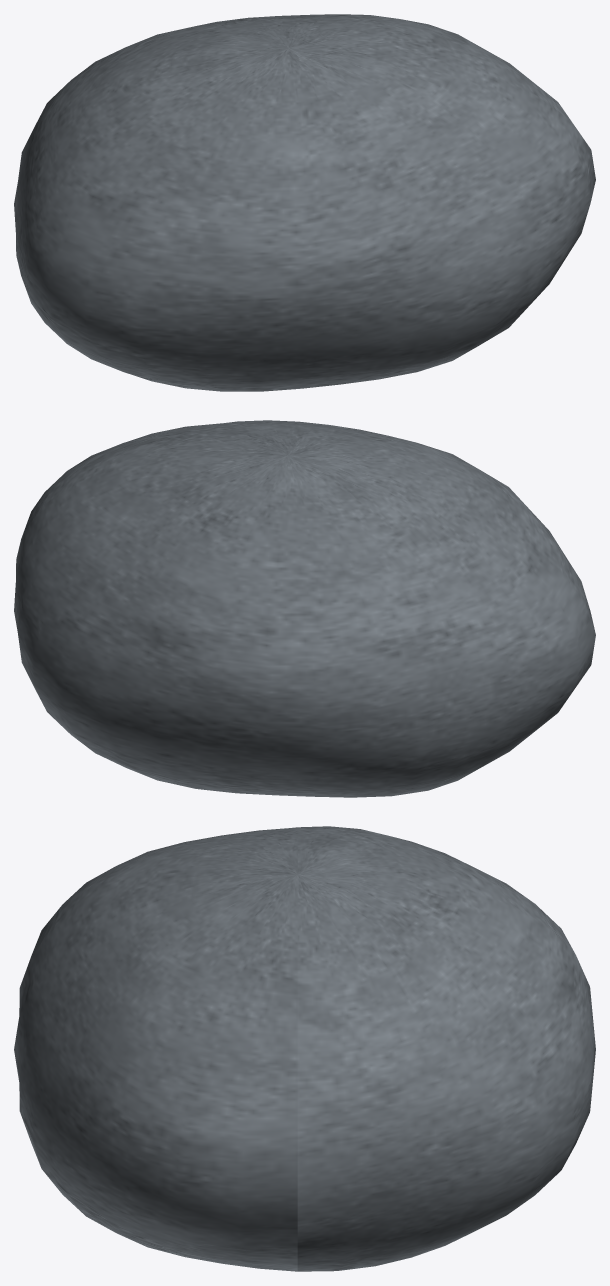
Rendered from guti_pebble_dark.glb.
3 views of the same model, one above another, from view 1: azimuth 30°, elevation 25°; view 2: azimuth 150°, elevation 25°; view 3: azimuth 270°, elevation 25° (orthographic). The views are drawn at different scales.
Visible parts, largest first — view 1: guti_pebble_dark; view 2: guti_pebble_dark; view 3: guti_pebble_dark.
Part boxes in pixels (x1=…): guti_pebble_dark: x1=14, y1=14, x2=595, y2=391; guti_pebble_dark: x1=14, y1=420, x2=595, y2=797; guti_pebble_dark: x1=14, y1=826, x2=595, y2=1271.
Size of the model in its own units: 0.025 by 0.012 by 0.021.
Materials: 1 (1 with a texture image).
